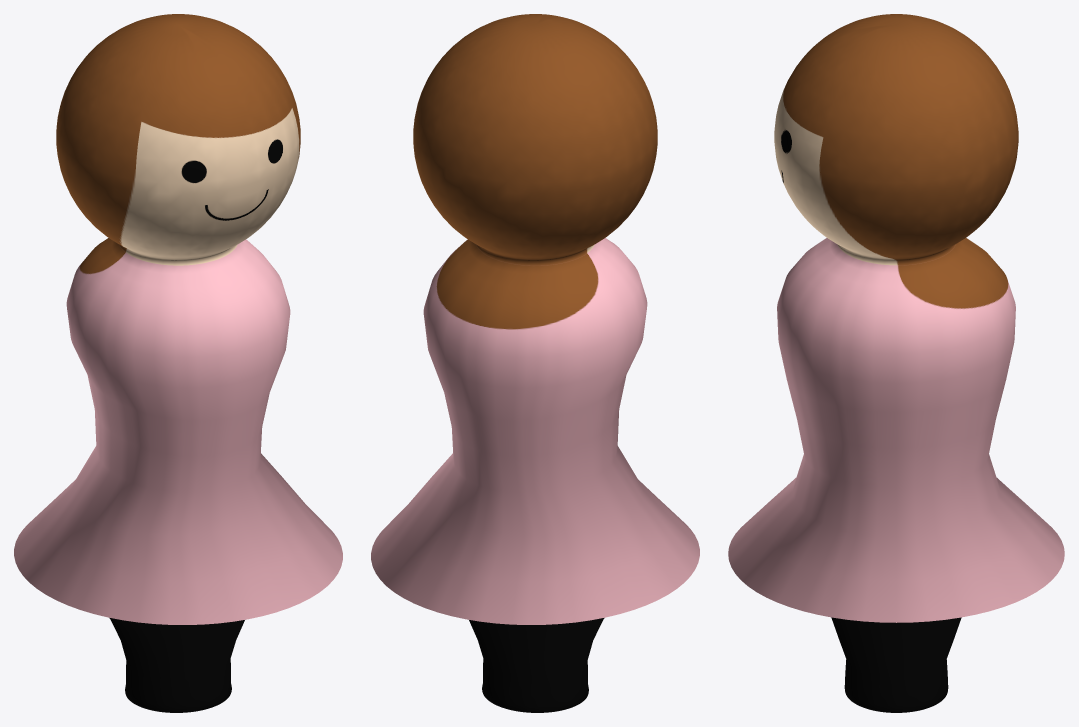
The model's file is FemaleDummyFBX.fbx.
3 views of the same model, side by side, from view 1: azimuth 30°, elevation 25°; view 2: azimuth 150°, elevation 25°; view 3: azimuth 270°, elevation 25° (orthographic).
Parts seen in each view (by area): view 1: Mesh; view 2: Mesh; view 3: Mesh.
Boxes of the visible parts, bbox=[...] form: Mesh: bbox=[14, 14, 342, 712]; Mesh: bbox=[371, 14, 699, 712]; Mesh: bbox=[728, 14, 1064, 712].
Bounding box in the file's own units: 7.91 × 17.8 × 8.16.
Materials: 1 (1 with a texture image).
